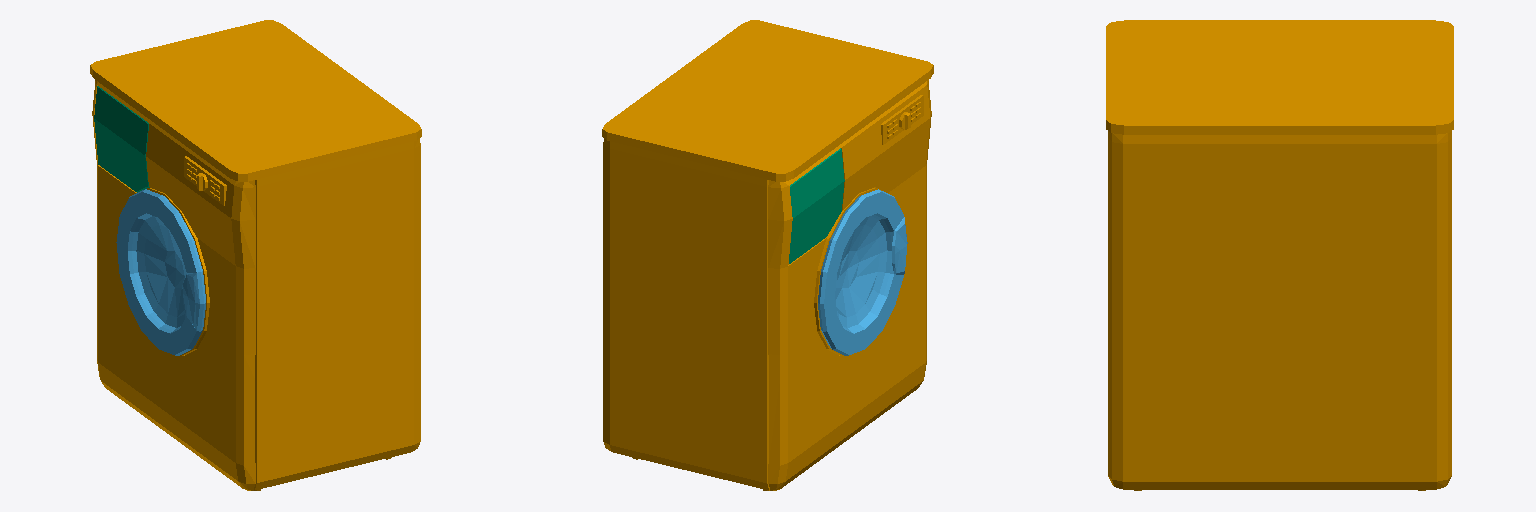
robot.urdf — Washer:
<robot name="Washer">
    <link name="corpus">
        <visual>
            <geometry>
                <mesh filename="meshes/corpus.obj"/>
            </geometry>
        </visual>
        <collision>
            <geometry>
                <mesh filename="meshes/corpus.obj"/>
            </geometry>
        </collision>
    </link>
    <link name="door">
        <visual>
            <geometry>
                <mesh filename="meshes/door.obj"/>
            </geometry>
        </visual>
        <collision>
            <geometry>
                <mesh filename="meshes/door.obj"/>
            </geometry>
        </collision>
    </link>
    <link name="detergent_tray">
        <visual>
            <geometry>
                <mesh filename="meshes/detergent_tray.obj"/>
            </geometry>
        </visual>
        <collision>
            <geometry>
                <mesh filename="meshes/detergent_tray.obj"/>
            </geometry>
        </collision>
    </link>

    <joint name="door_hinge" type="revolute">
        <origin xyz="0.0 0.0 0.0" rpy="0.0 0.0 0.0"/>
        <parent link="corpus"/>
        <child link="door"/>
        <axis xyz=".0 -1.0 0.0"/>
        <limit lower="0.0" upper="2.5" effort="100.0" velocity="100.0"/>
    </joint>
    <joint name="detergent_tray_joint" type="prismatic">
        <origin xyz="0.0 0.0 0.0" rpy="0.0 0.0 0.0"/>
        <parent link="corpus"/>
        <child link="detergent_tray"/>
        <axis xyz=".0 0.0 1.0"/>
        <limit lower="0.0" upper="0.03" effort="100.0" velocity="100.0"/>
    </joint>
</robot>

--- What the picture shows (computed from the rendered views, not written in the file) ---
3 views of the same robot in one strip: view 1: azimuth 30°, elevation 25°; view 2: azimuth 150°, elevation 25°; view 3: azimuth 270°, elevation 25° (orthographic).
Model Washer with 3 links and 2 joints (1 revolute, 1 prismatic), rooted at corpus, posed every joint at zero.
Links seen in each view (by area): view 1: corpus, door, detergent_tray; view 2: corpus, door, detergent_tray; view 3: corpus.
Link boxes in pixels (box(x1,y1,x2,y2)): corpus: box(90, 20, 421, 490); door: box(116, 189, 205, 355); detergent_tray: box(94, 86, 149, 192); corpus: box(602, 20, 933, 490); door: box(818, 189, 907, 355); detergent_tray: box(789, 148, 844, 263); corpus: box(1106, 20, 1453, 490).
Size in the robot's own frame: 0.0863 by 0.1174 by 0.1407 metres.
3 mesh visuals loaded from 3 distinct referenced files (3 OBJ).